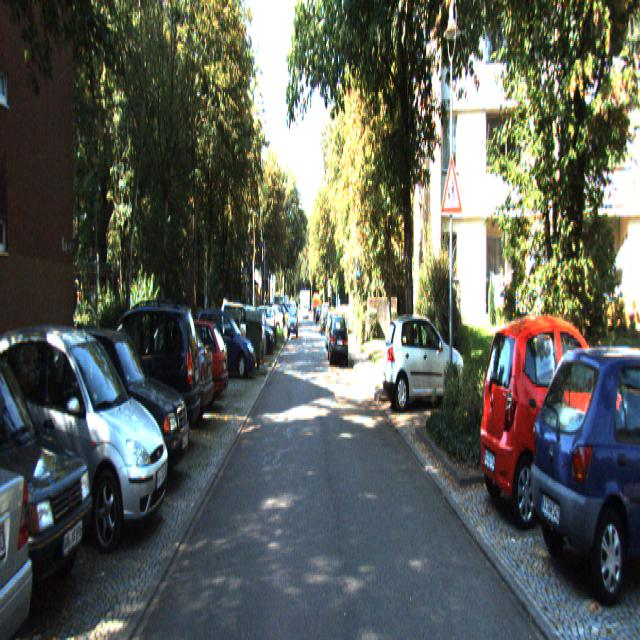Car: (0, 327, 171, 552), (476, 312, 640, 535), (528, 331, 640, 608), (0, 326, 102, 628), (28, 316, 194, 493), (72, 292, 202, 461), (143, 316, 230, 420), (382, 311, 467, 413), (195, 308, 258, 383), (328, 314, 350, 367)
